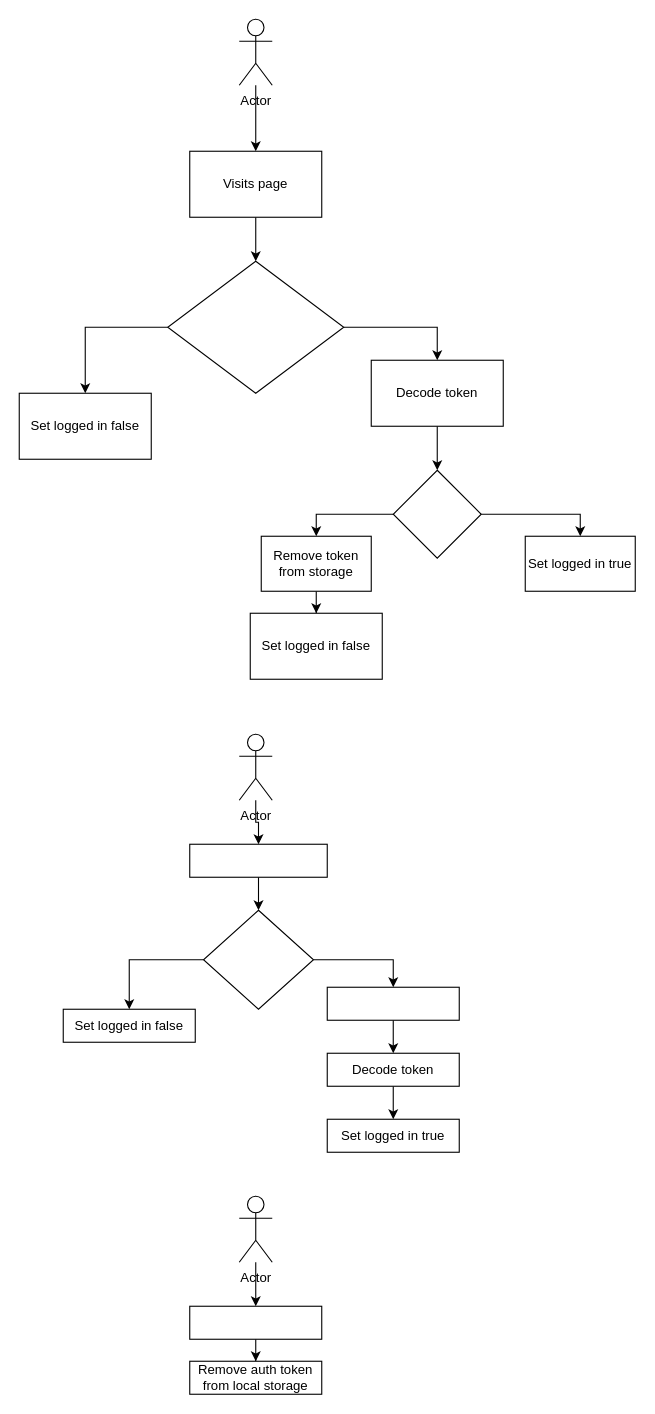
The diagram is 655 pixels wide and 1414 high, and some of its shapes have lost their labels. Each missing label, with the centre of its shape:
Access token in local storage?: point 255,326
Login successful?: point 258,959
Set auth token in local storage: point 392,1003
Token valid?: point 436,513
User logs in: point 258,860
User logs out: point 255,1322
